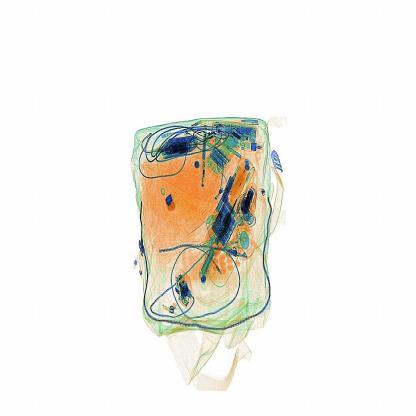wrench: (163, 190, 178, 219)
